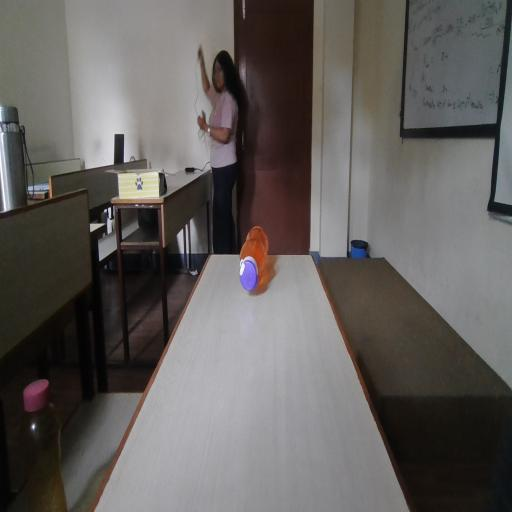Bottle: (12, 373, 83, 506), (228, 206, 276, 307)
